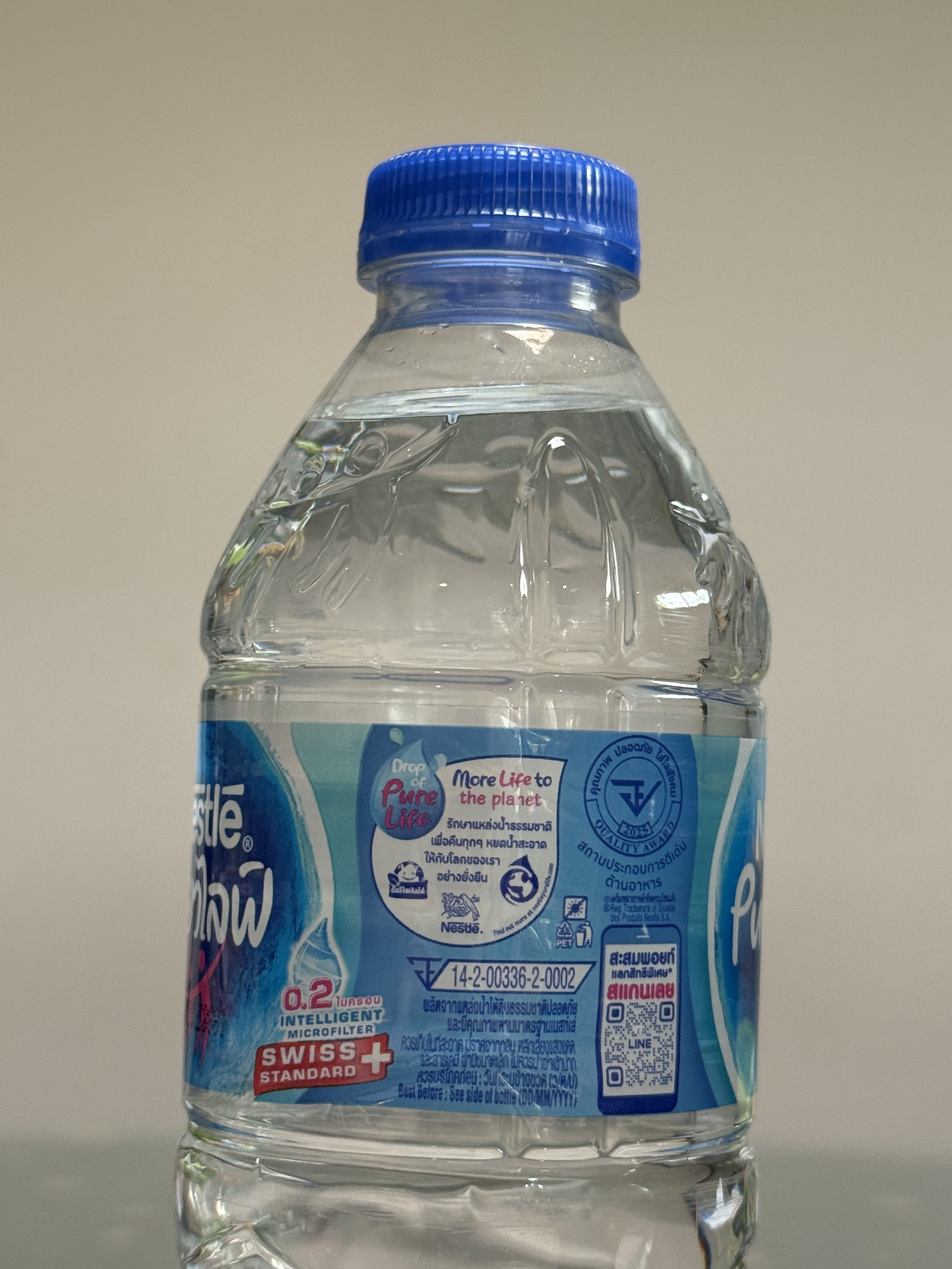closed_cap: (352, 138, 645, 297)
